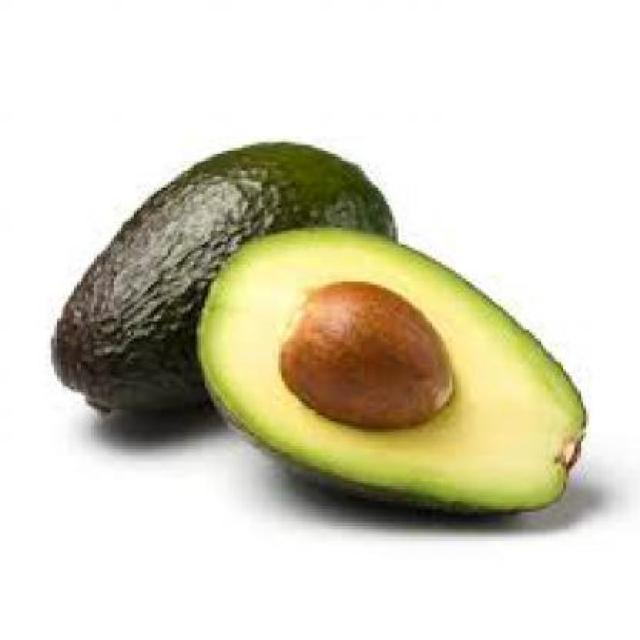BIODEGRADABLE: (191, 230, 586, 515), (51, 137, 398, 415), (278, 278, 452, 432)
